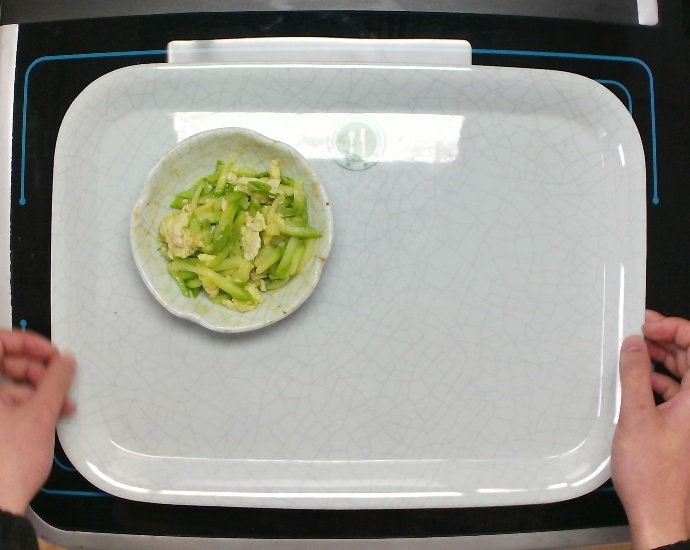JYsf-Ao_Yuan_Wan: (128, 123, 338, 335)
